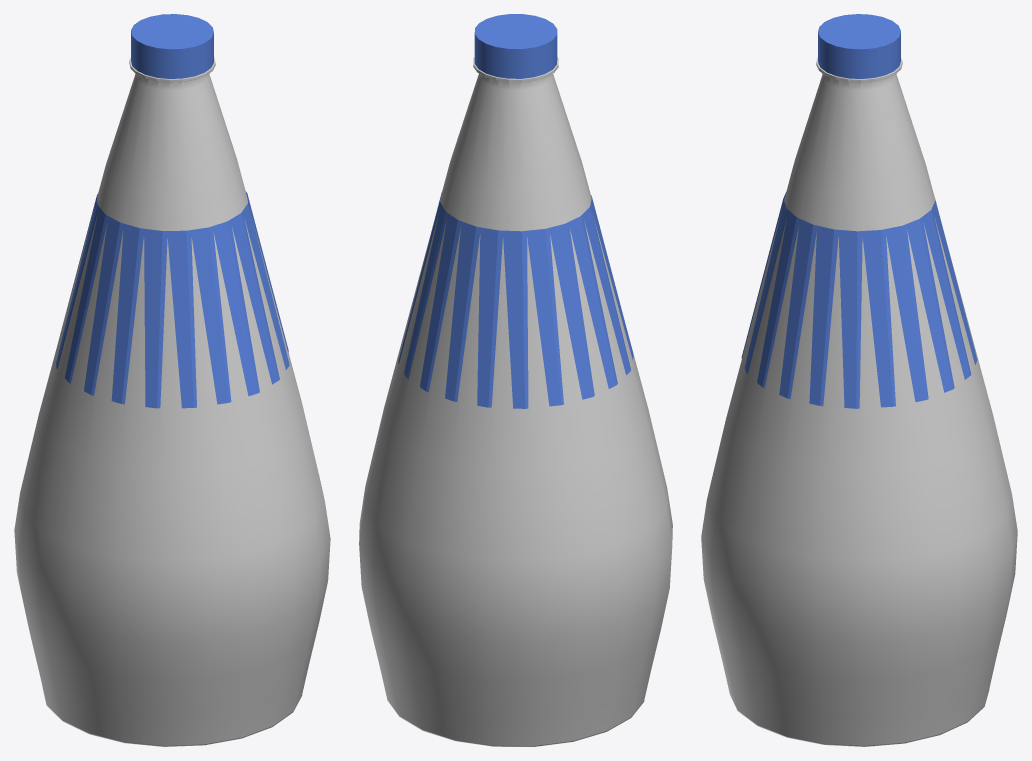
Rendered from Bottle_4.fbx.
The picture shows the model from 3 angles, left to right: view 1: azimuth 30°, elevation 25°; view 2: azimuth 150°, elevation 25°; view 3: azimuth 270°, elevation 25°; orthographic projection.
Parts seen in each view (by area): view 1: polySurface3, bottle_name, cap; view 2: polySurface3, bottle_name, cap; view 3: polySurface3, bottle_name, cap.
Boxes of the visible parts, x1,y1,x2,y2 form: polySurface3: [14, 57, 330, 746]; bottle_name: [56, 191, 289, 408]; cap: [131, 14, 213, 78]; polySurface3: [359, 57, 672, 746]; bottle_name: [398, 192, 633, 408]; cap: [474, 14, 557, 78]; polySurface3: [701, 57, 1017, 746]; bottle_name: [741, 192, 977, 408]; cap: [818, 14, 900, 78].
Bounding box in the file's own units: 0.4309 × 0.9918 × 0.4309.
